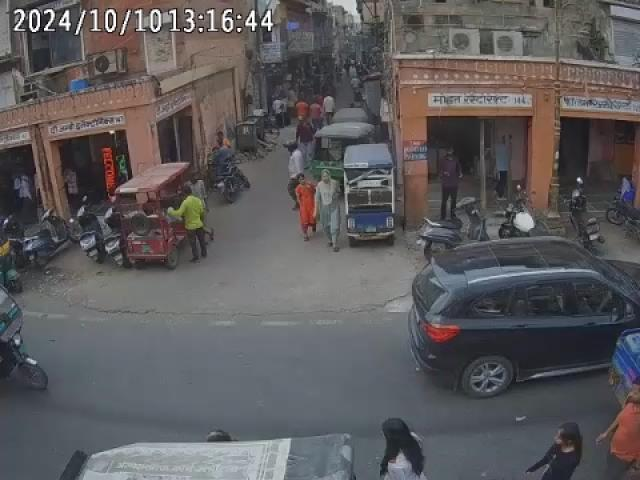auto: (117, 161, 192, 267), (343, 142, 398, 246)
car: (407, 234, 640, 401)
motorbike-rider: (208, 141, 250, 201)
person: (177, 184, 210, 262), (294, 172, 318, 240)
scooty: (22, 208, 70, 265), (67, 198, 100, 264), (100, 195, 122, 265)
